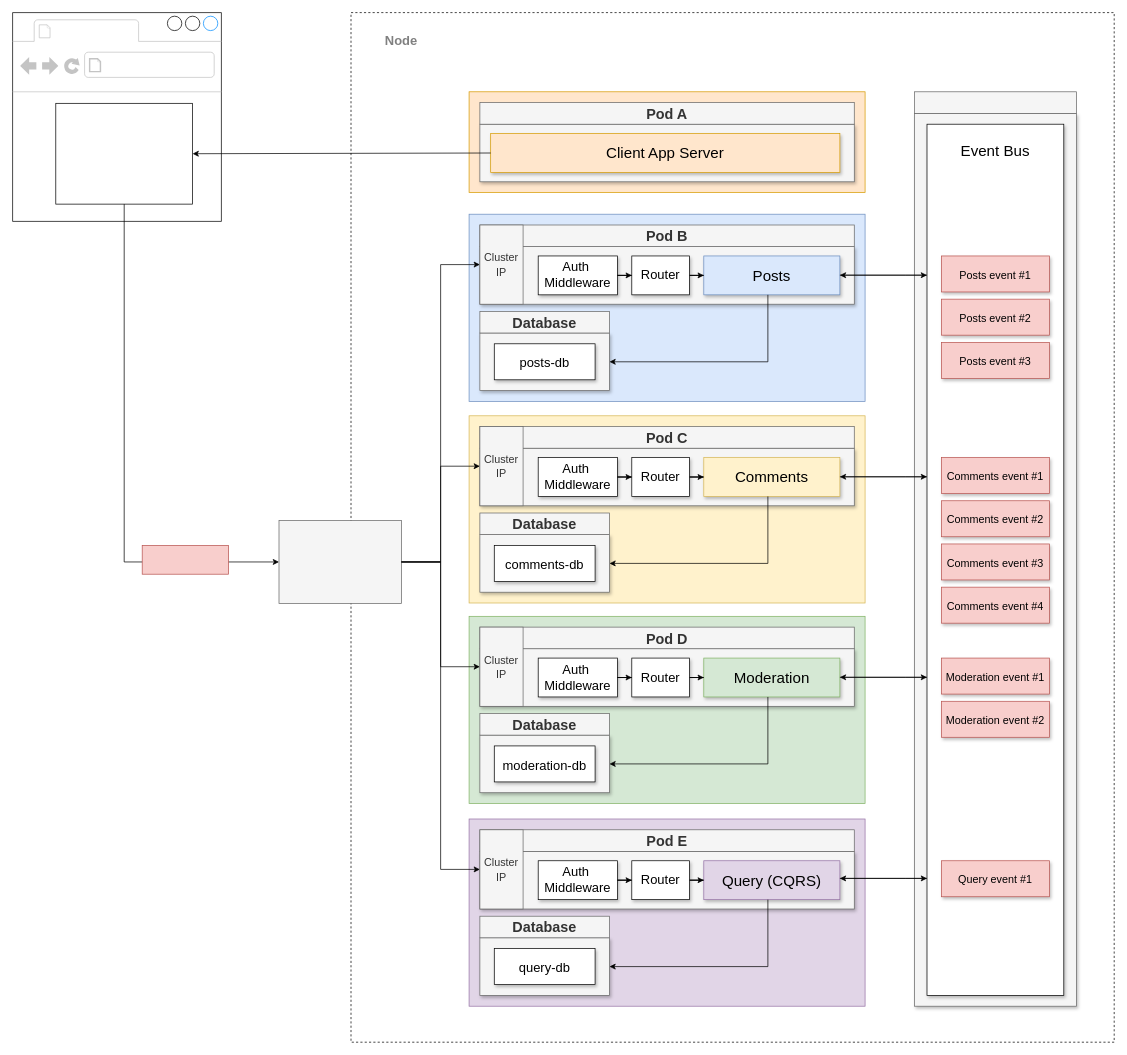
Image size: 1127x1055. Some labels were removed from this diagram. The shapes that lost their labels are listed below. From the top down, each one's centre as x and y in pixels, then its label:
At (x=95, y=30): "Page 1".
At (x=995, y=102): "Pod F".
At (x=124, y=153): "Client App running in browser".
At (x=185, y=559): "Request".
At (x=339, y=561): "Load Balancer Service".
